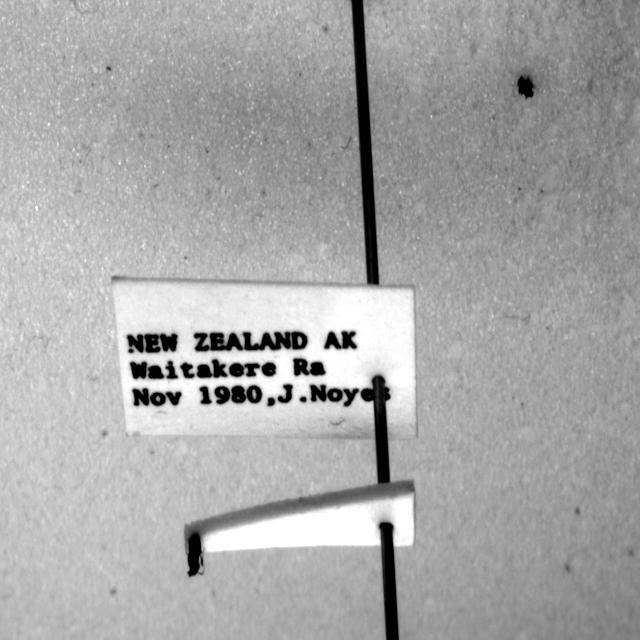typed_label: (112, 278, 416, 439)
